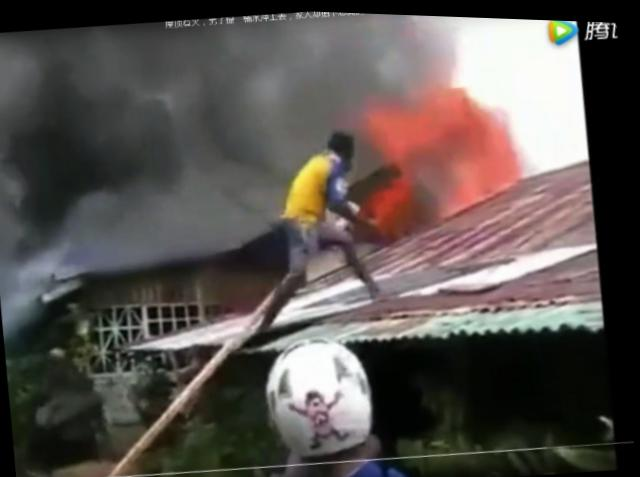fire: (377, 88, 485, 162), (444, 109, 517, 201), (365, 178, 412, 223)
